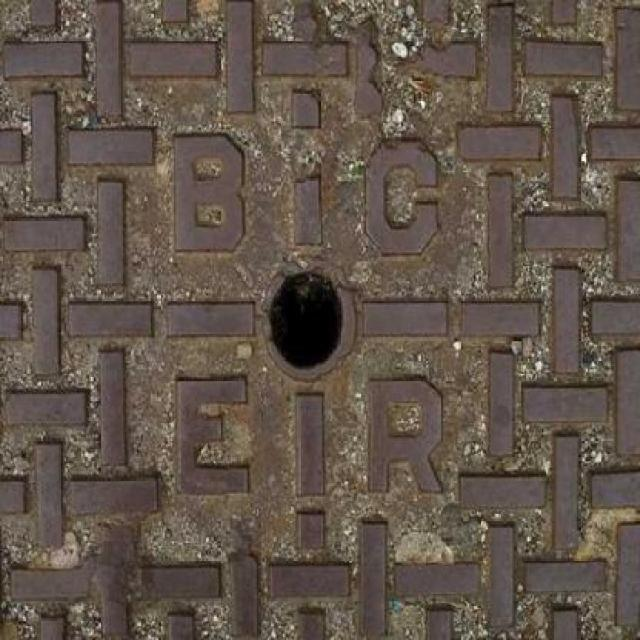Open Manhole: (216, 208, 421, 408)
